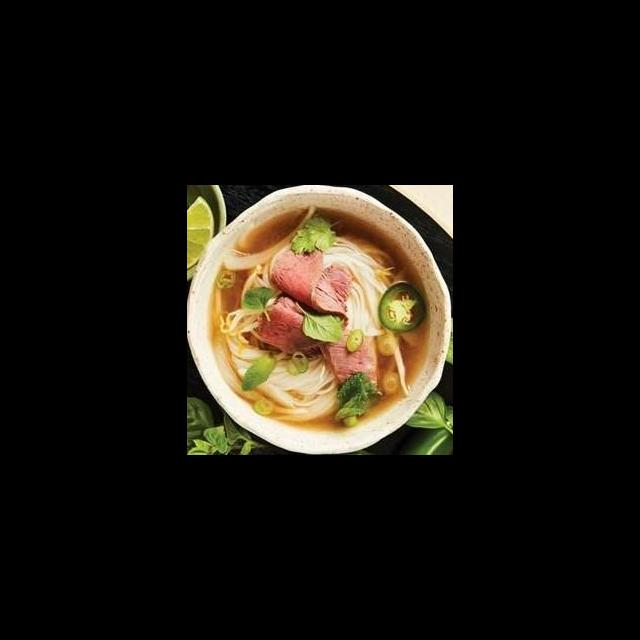banh pho: (224, 343, 339, 427), (342, 235, 389, 337), (322, 236, 395, 278)
pho bo: (199, 213, 443, 455)
thit bo: (269, 241, 357, 321), (248, 292, 333, 360), (315, 322, 384, 393)
